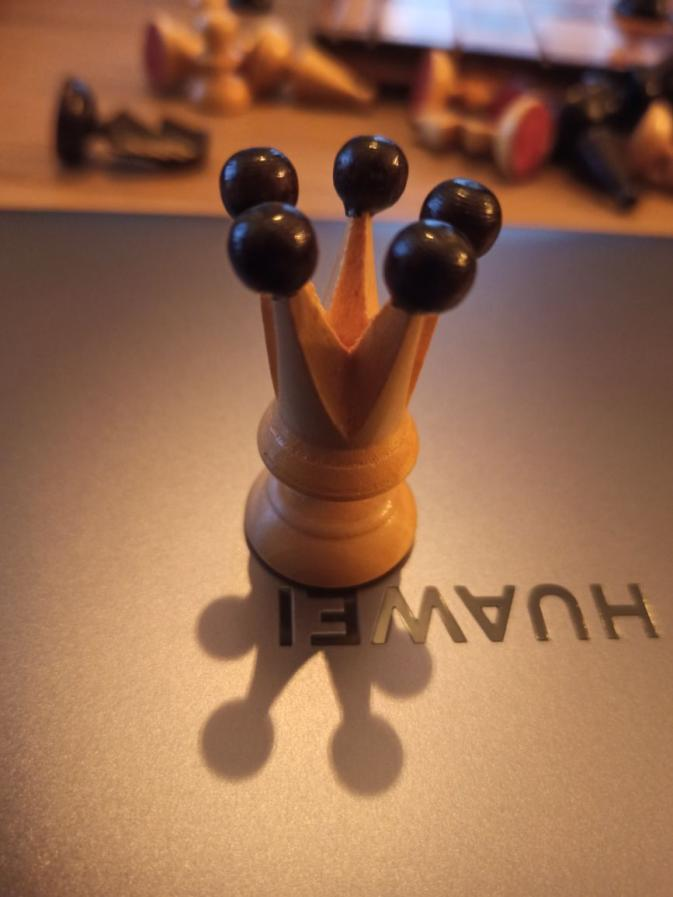wqueen: (217, 135, 504, 598)
